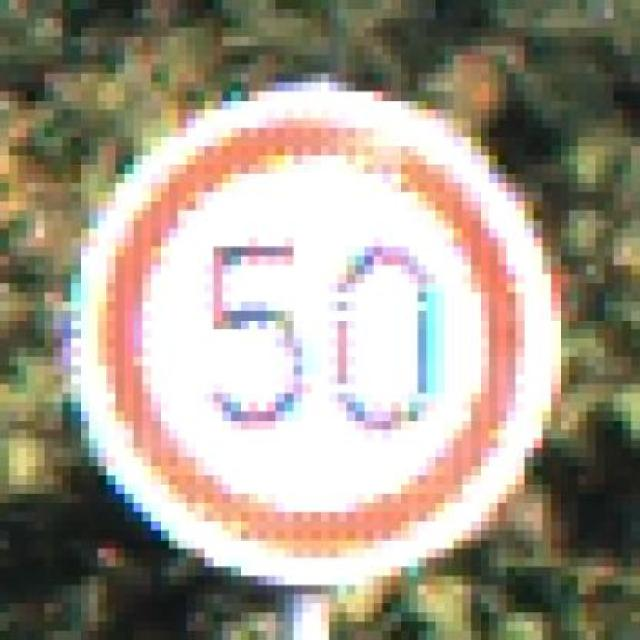50 mph speed limit: (53, 64, 569, 585)
